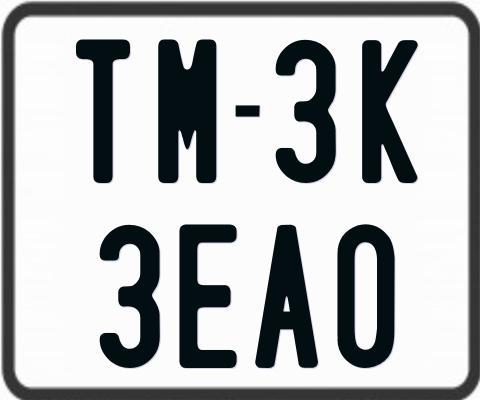0: (337, 222, 400, 369)
3: (276, 38, 340, 181), (100, 223, 161, 367)
A: (254, 224, 321, 369)
E: (178, 224, 241, 373)
K: (361, 37, 419, 186)
M: (155, 40, 213, 183)
T: (74, 40, 130, 189)
